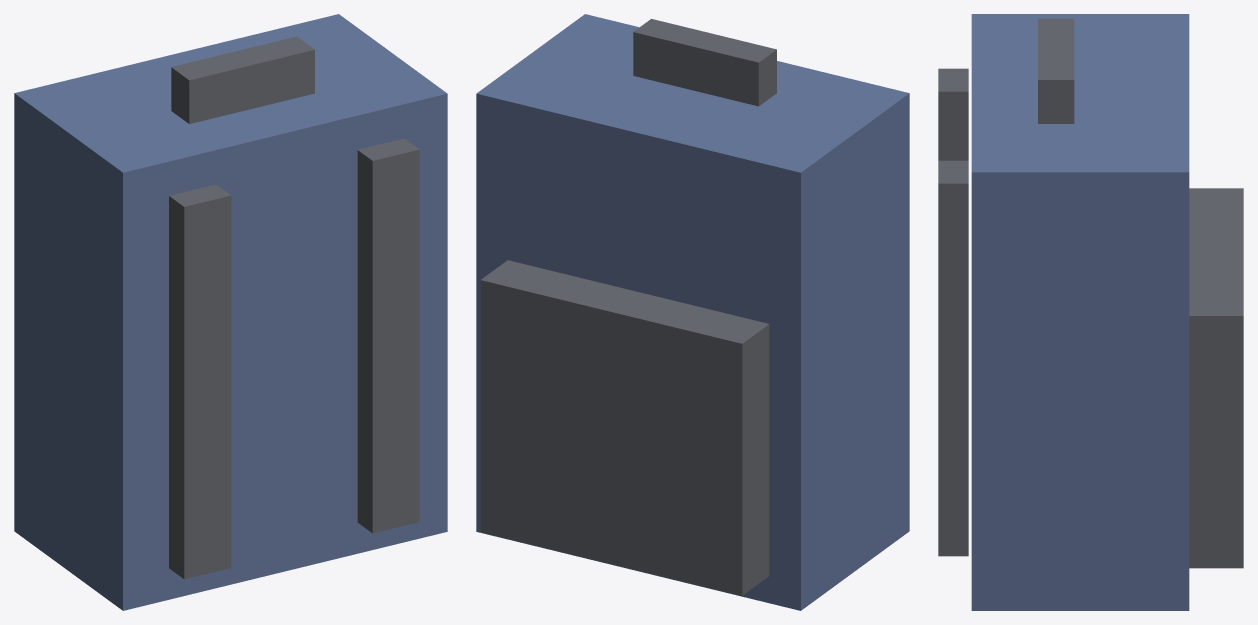
File: Prop_Backpack_Navy.glb
3 views of the same model, side by side, from view 1: azimuth 30°, elevation 25°; view 2: azimuth 150°, elevation 25°; view 3: azimuth 270°, elevation 25° (orthographic).
Visible parts, largest first — view 1: Main, StrapR, StrapL, TopHandle; view 2: Main, Pocket, TopHandle; view 3: Main, Pocket, StrapR, TopHandle, StrapL.
Boxes of the visible parts, box(x1,y1,x2,y2) form: Main: box(14, 14, 447, 610); StrapR: box(357, 138, 419, 533); StrapL: box(169, 184, 231, 579); TopHandle: box(171, 36, 314, 123); Main: box(476, 14, 909, 610); Pocket: box(480, 260, 769, 595); TopHandle: box(633, 19, 776, 106); Main: box(971, 14, 1189, 610); Pocket: box(1189, 188, 1243, 568); StrapR: box(938, 160, 968, 556); TopHandle: box(1038, 18, 1074, 123); StrapL: box(938, 68, 968, 160).
Bounding box in the file's own units: 0.31 × 0.44 × 0.2525.
